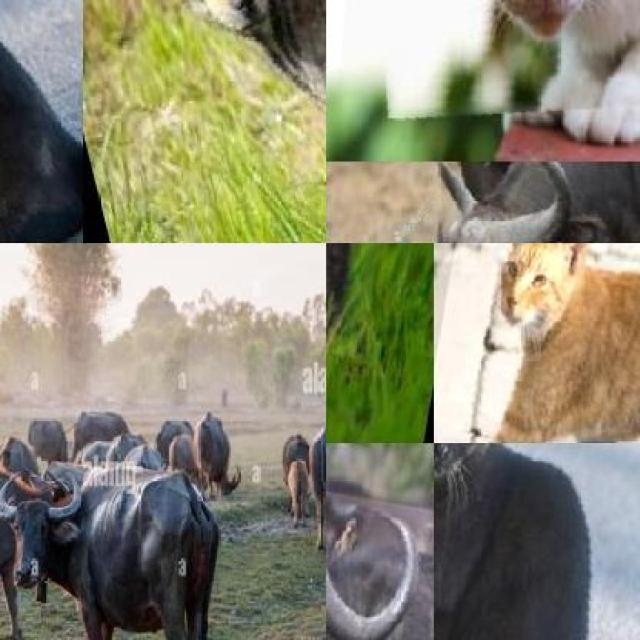buffalo: (9, 491, 203, 640), (395, 162, 640, 243), (70, 402, 132, 450), (199, 415, 233, 493), (28, 412, 66, 459), (311, 436, 326, 544), (160, 424, 192, 470)
cat: (337, 0, 640, 142), (434, 243, 640, 443), (434, 443, 640, 640), (0, 0, 83, 243)
dog: (132, 0, 326, 243)
injured: (314, 0, 326, 203)
